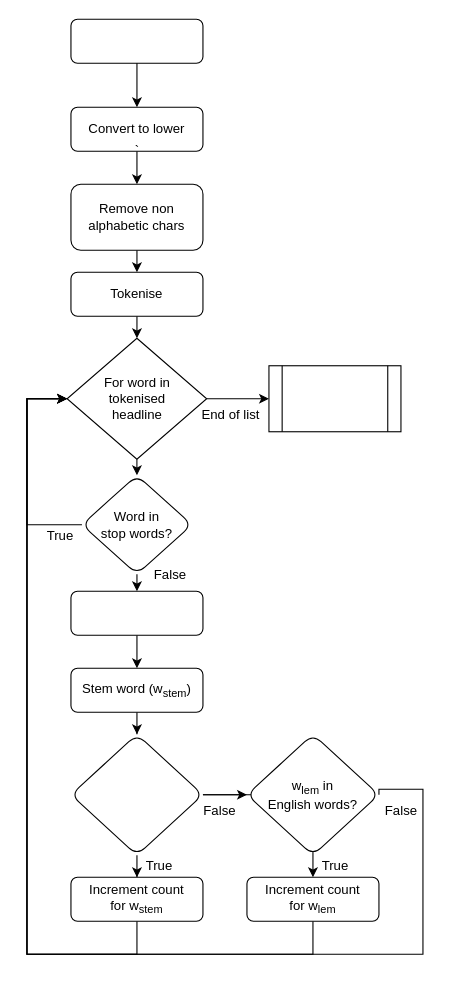
This 451x982 diagram has some shape labels left out. Here are the shapes that lost their labels. From the top down, the centre of each, then its label:
(136,40): Input raw headline
(334,398): Output Bag of words representation of headline
(136,612): Lemmatise word (w lem )
(136,794): w stem in English words?
